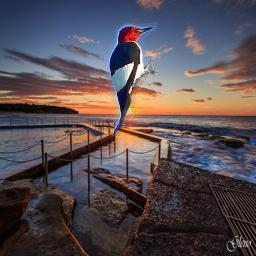Woodpecker: (99, 18, 160, 136)
